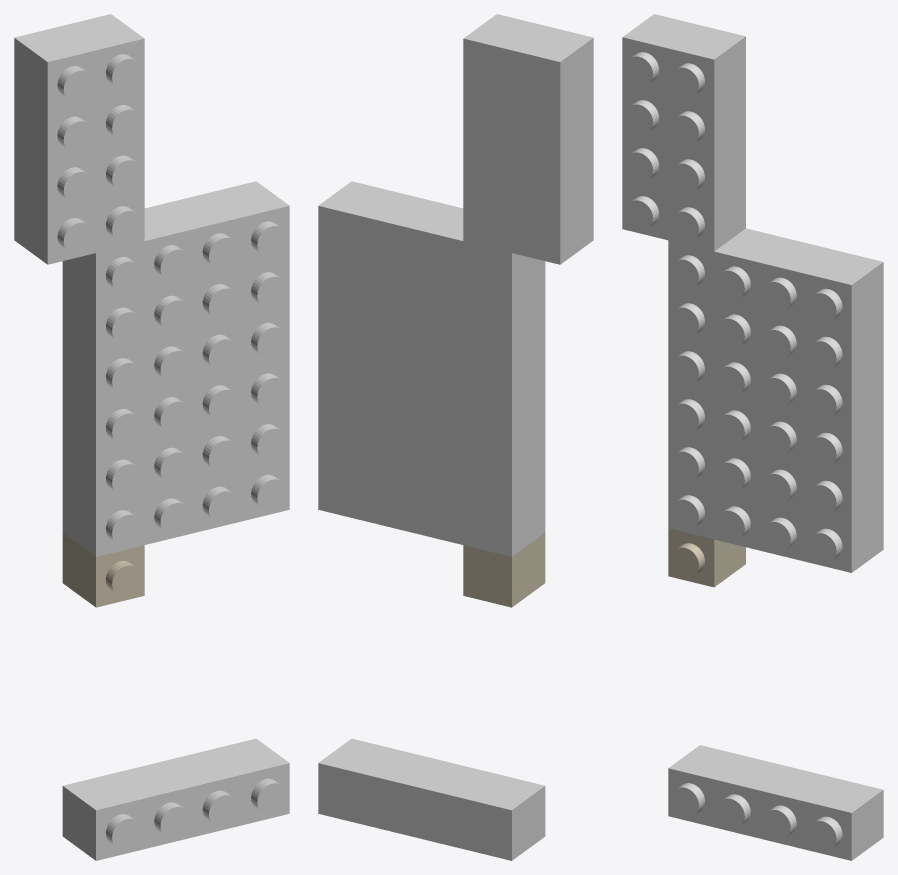
File: current.glb
3 views of the same model, side by side, from view 1: azimuth 30°, elevation 25°; view 2: azimuth 150°, elevation 25°; view 3: azimuth 330°, elevation 25° (orthographic). The views are drawn at different scales.
Parts seen in each view (by area): view 1: world; view 2: world; view 3: world.
Part boxes in pixels (x1=…): world: x1=14, y1=14, x2=289, y2=860; world: x1=318, y1=14, x2=593, y2=860; world: x1=622, y1=14, x2=883, y2=860.
Size of the model in its own units: 40 by 128 by 11.4.
